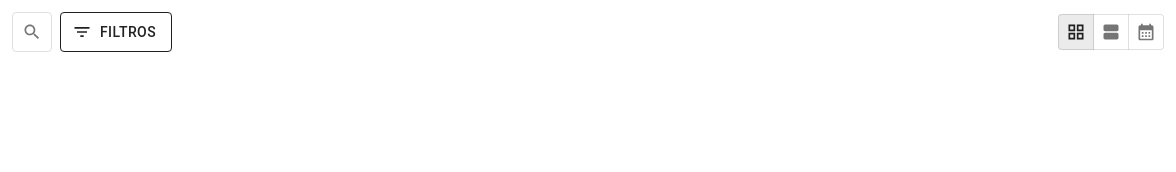
Test: EventsFilters › abre os filtros em linha no desktop
The width and height of the screenshot is (1176, 172).
Click the button "Filtros" at (116,32), box [60,12,172,52]
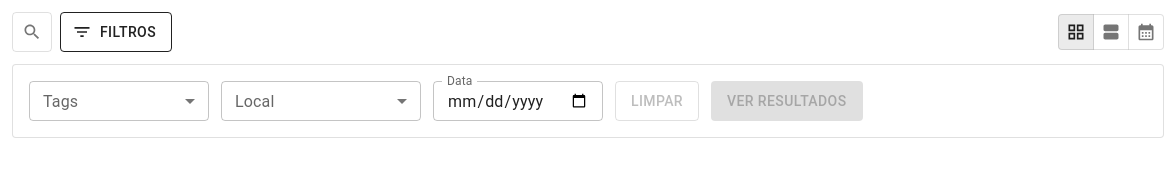
Expected: the dropdown named "tags" next to "Tags" is shown, [29,81,209,121]
Expected: the dropdown named "local" next to "Local" is shown, [221,81,421,121]
Expected: the date field labelled "Data" is shown, [433,81,603,121]
